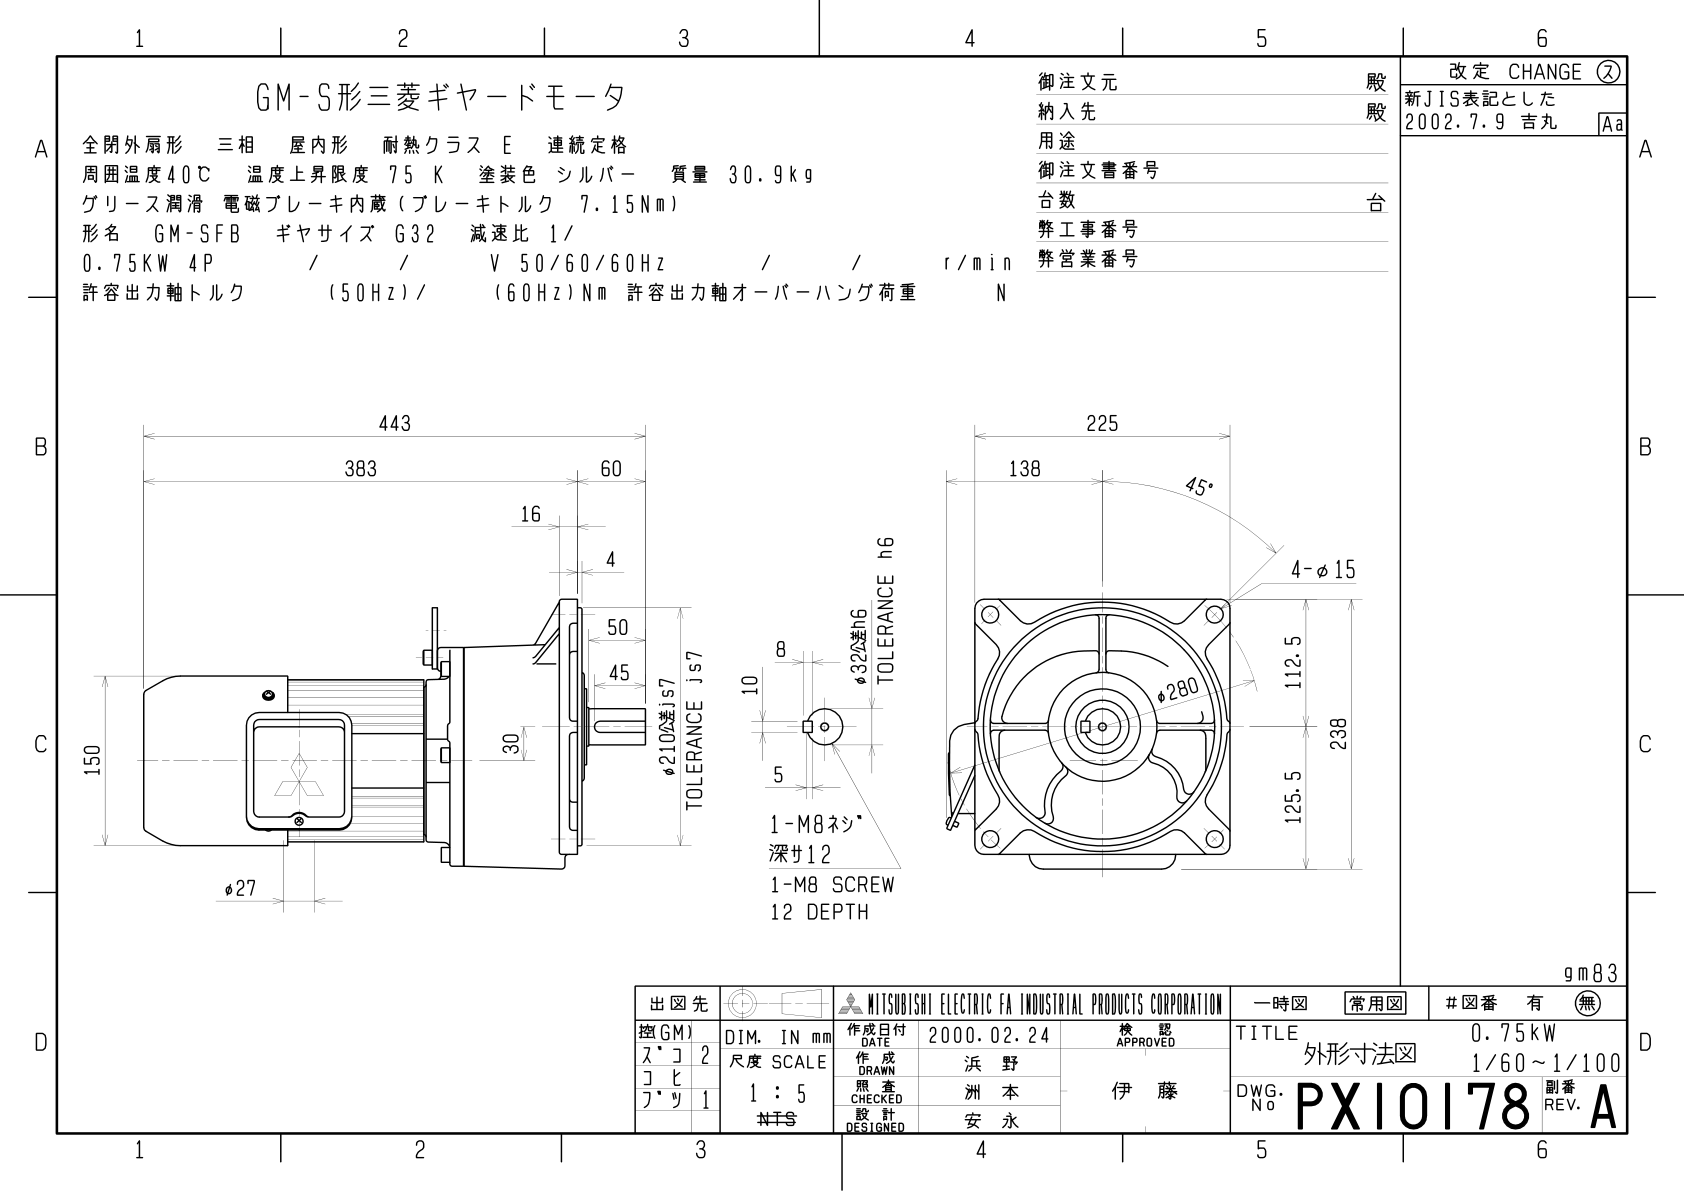GM_S_屋内＿三相_フランジ: (15, 6, 1684, 1191)
